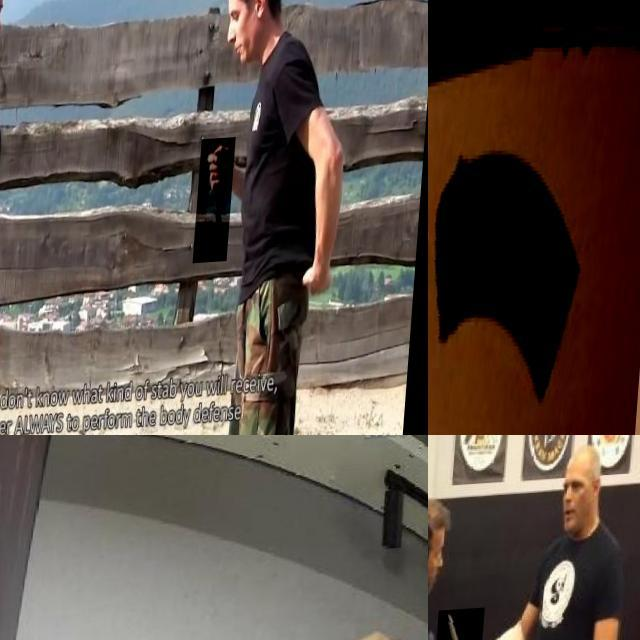-: (199, 143, 241, 270), (438, 613, 488, 640)
gun-knife-thesis - v11 Yolov5 augmented: (428, 0, 640, 435)
